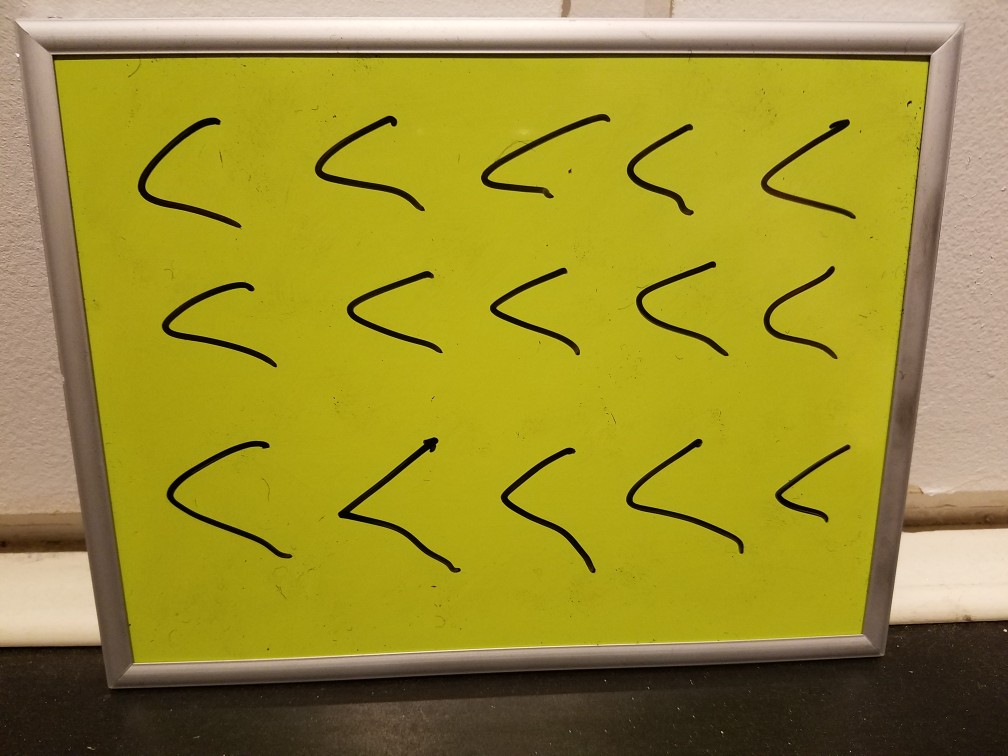<: (317, 429, 471, 583), (132, 262, 309, 388), (151, 424, 297, 574), (610, 422, 754, 574), (109, 95, 258, 232), (466, 97, 622, 217), (485, 428, 597, 587), (293, 95, 428, 226), (756, 109, 874, 232), (622, 251, 733, 369), (336, 263, 445, 381), (622, 118, 722, 238), (481, 244, 580, 356), (757, 253, 850, 369), (774, 433, 860, 553)
